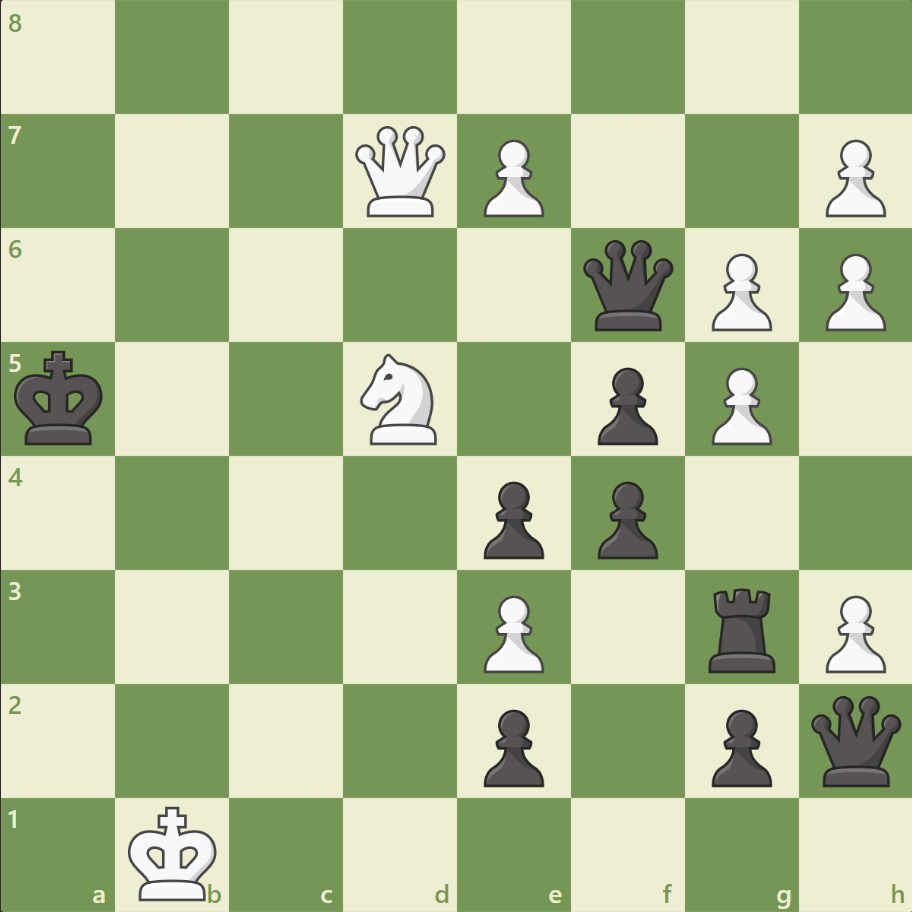K: (124, 798, 224, 906)
N: (351, 348, 449, 450)
P: (474, 132, 549, 223), (701, 246, 776, 337), (701, 359, 776, 450), (474, 586, 549, 677), (815, 132, 889, 223), (815, 246, 889, 337), (815, 586, 889, 677)
Q: (351, 122, 450, 222)
k: (11, 344, 111, 452)
p: (474, 473, 549, 564), (474, 700, 549, 791), (701, 700, 776, 791), (588, 359, 662, 450), (588, 473, 662, 564)
q: (578, 236, 677, 335), (805, 690, 904, 789)
r: (700, 579, 783, 676)
